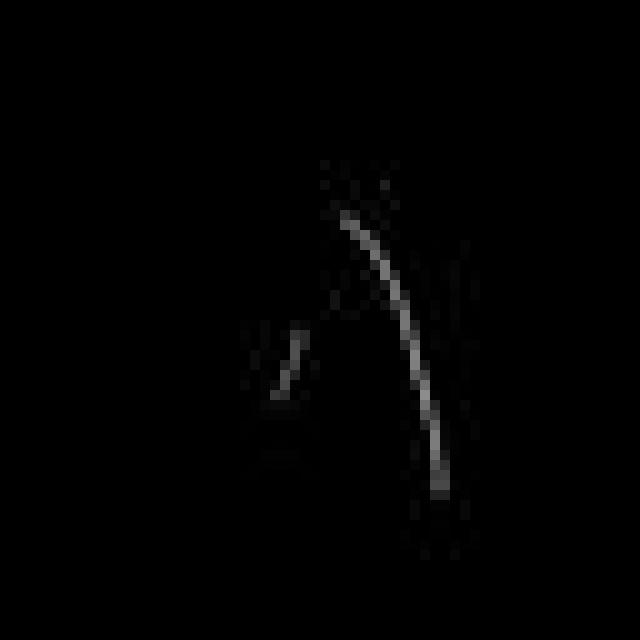8 -eight-: (255, 204, 457, 513)
